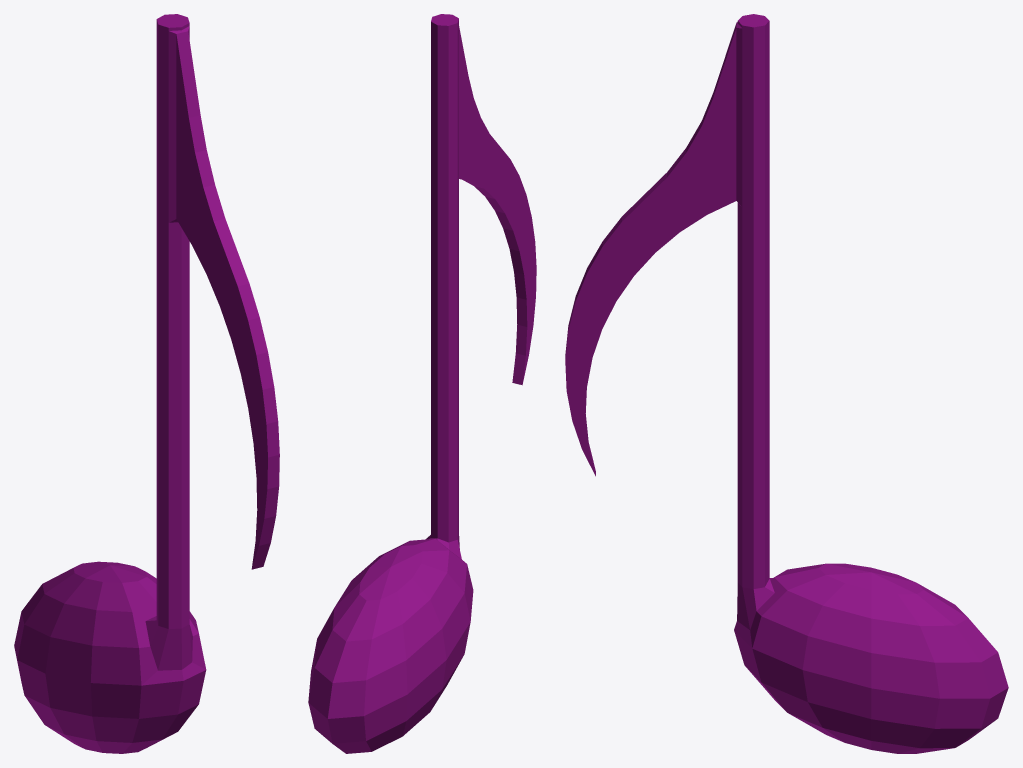
Rendered from music_3.obj.
3 renders of one model, left to right at view 1: azimuth 30°, elevation 25°; view 2: azimuth 150°, elevation 25°; view 3: azimuth 270°, elevation 25°, orthographic. The views are drawn at different scales.
Visible parts, largest first — view 1: Mesh_MusicNote; view 2: Mesh_MusicNote; view 3: Mesh_MusicNote.
Boxes of the visible parts, x1,y1,x2,y2 form: Mesh_MusicNote: (14,14,279,753); Mesh_MusicNote: (308,14,536,753); Mesh_MusicNote: (565,14,1008,753).
Bounding box in the file's own units: 2.2 × 12.65 × 6.97.
